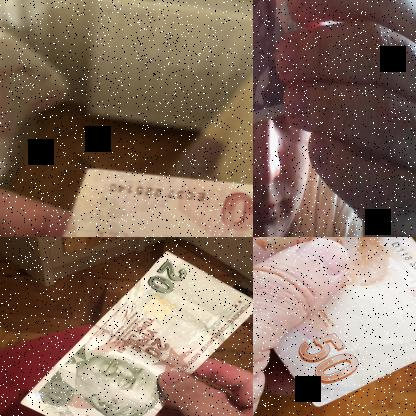5 TL: (36, 168, 252, 236)
